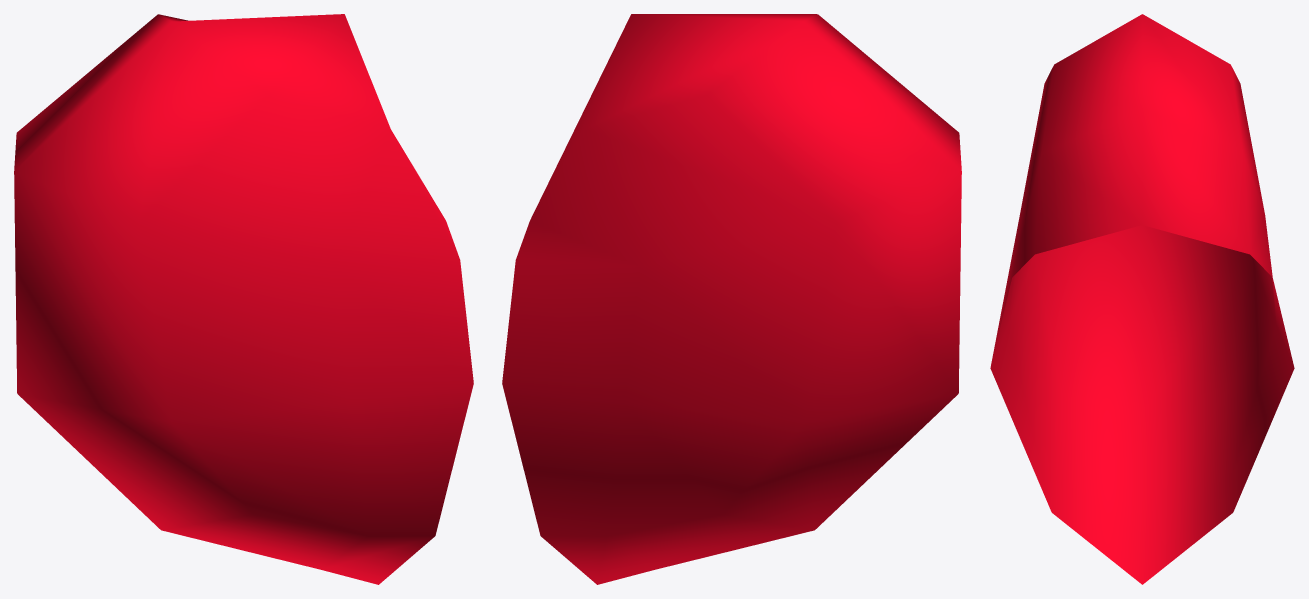
The model's file is heart.glb.
3 views of the same model, side by side, from view 1: azimuth 30°, elevation 25°; view 2: azimuth 150°, elevation 25°; view 3: azimuth 270°, elevation 25° (orthographic). The views are drawn at different scales.
Visible parts, largest first — view 1: Cube.001; view 2: Cube.001; view 3: Cube.001.
Boxes of the visible parts, <box> form: Cube.001: <box>14,14,473,584</box>; Cube.001: <box>502,14,961,584</box>; Cube.001: <box>990,14,1294,584</box>.
Bounding box in the file's own units: 0.2132 × 0.343 × 0.1928.
